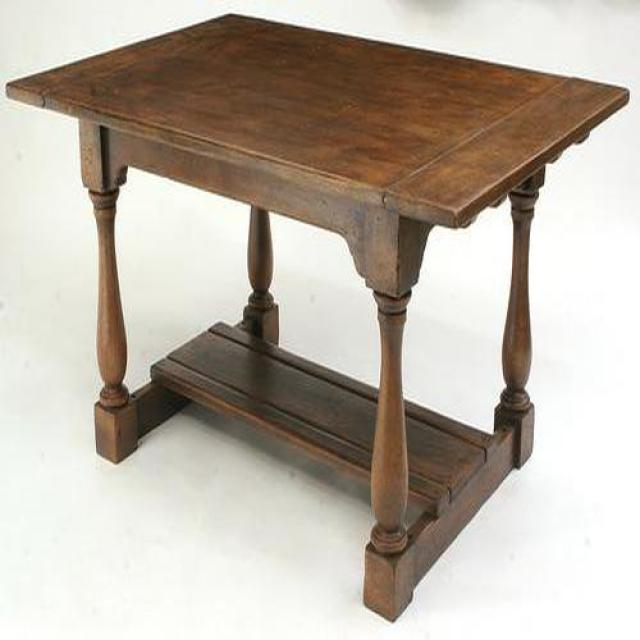table: (5, 13, 632, 625)
